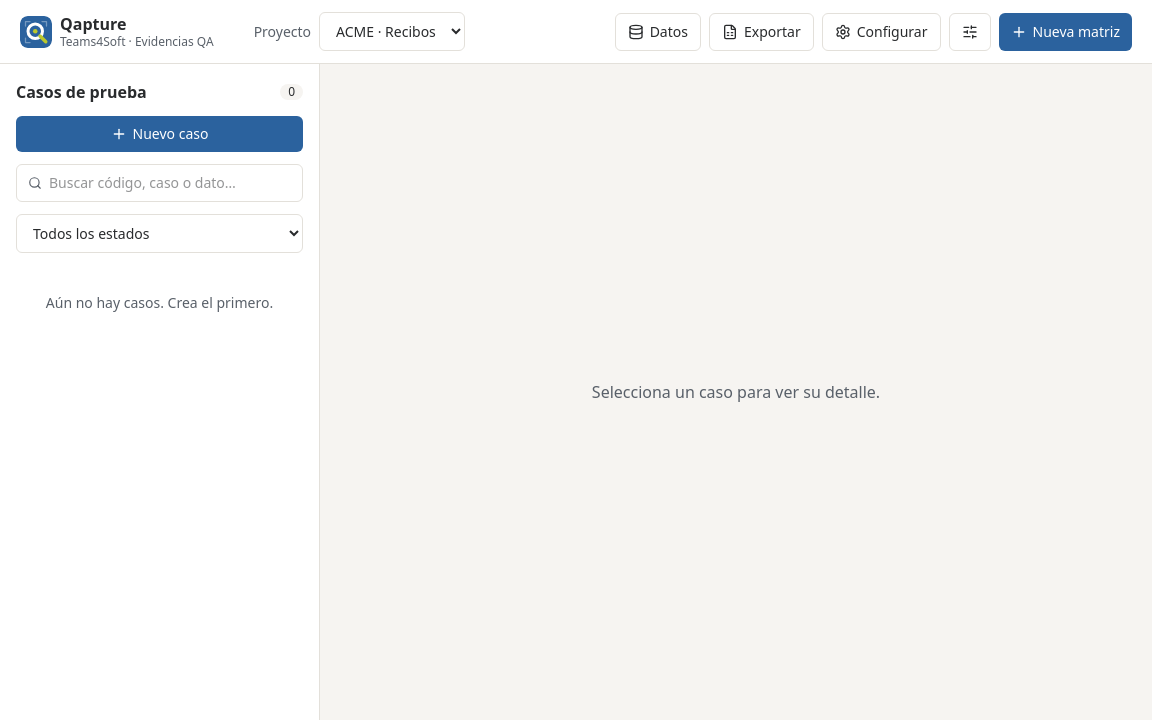
Test: pestaña GitHub de Configurar proyecto › sin predeterminado muestra «Marca un repositorio como predeterminado.» y no guarda
Click the button "Configurar".
click(881, 32)  # box left=822, top=12, right=940, bottom=50
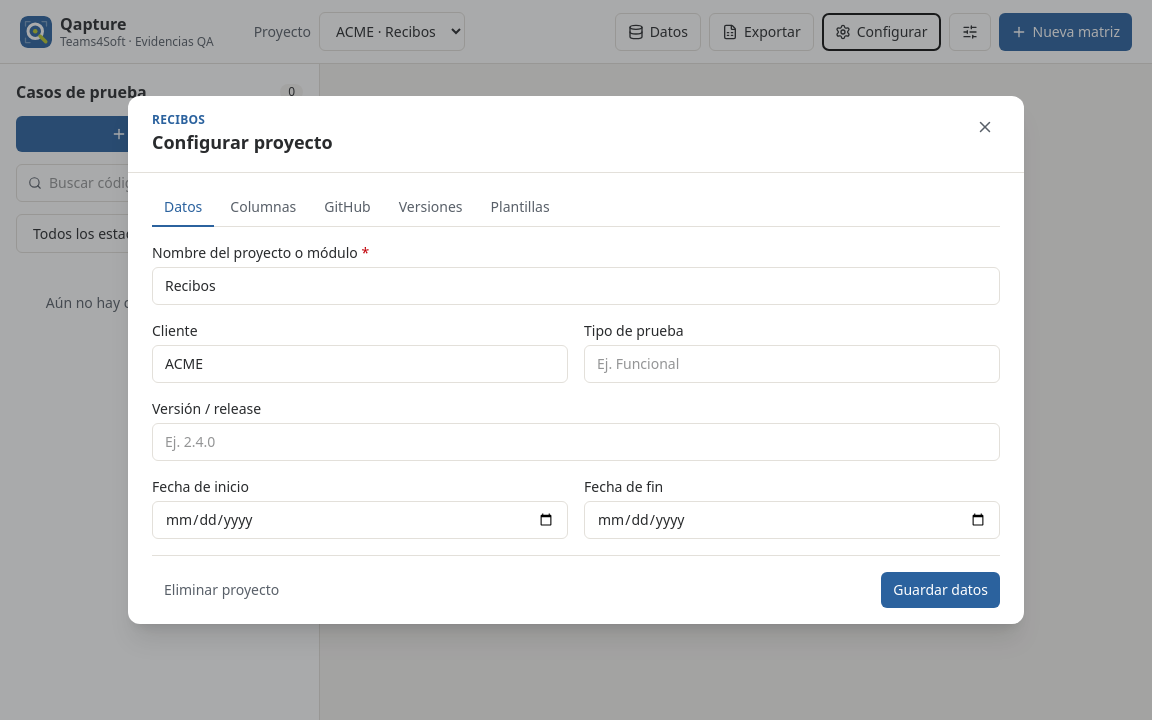
Click the tab "GitHub".
click(347, 208)  # box left=312, top=189, right=383, bottom=227
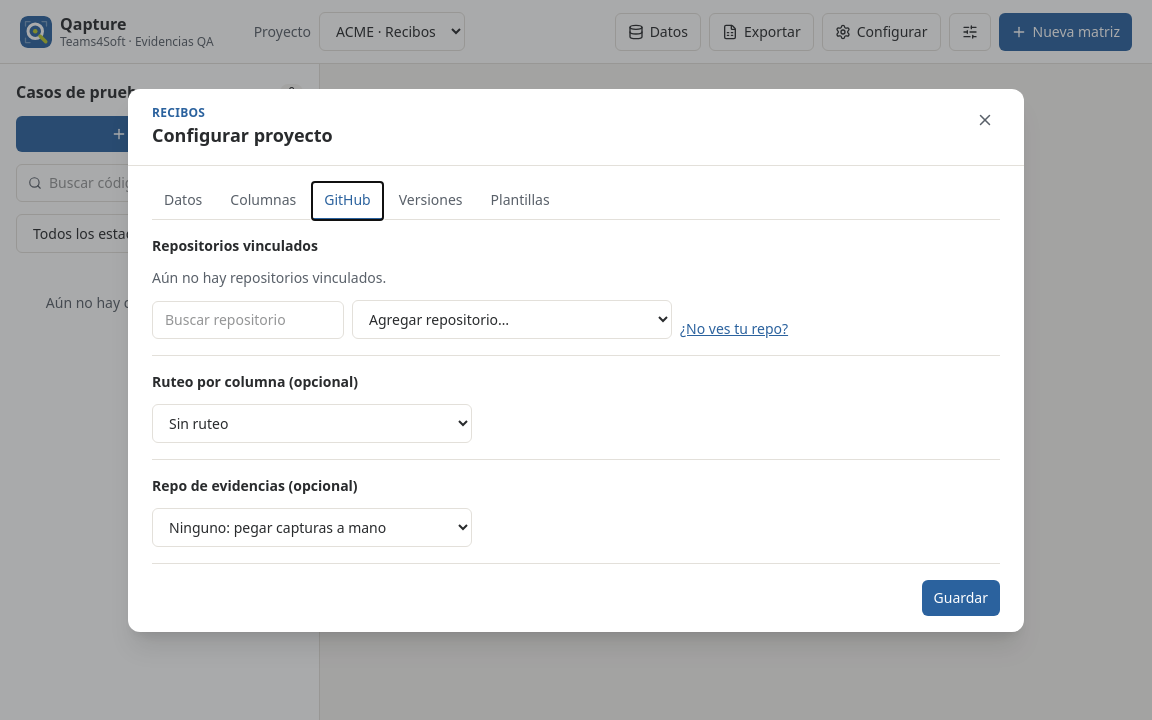
Select "acme/web" in the dropdown named "Agregar repositorio" at [512, 319], box left=352, top=300, right=672, bottom=338
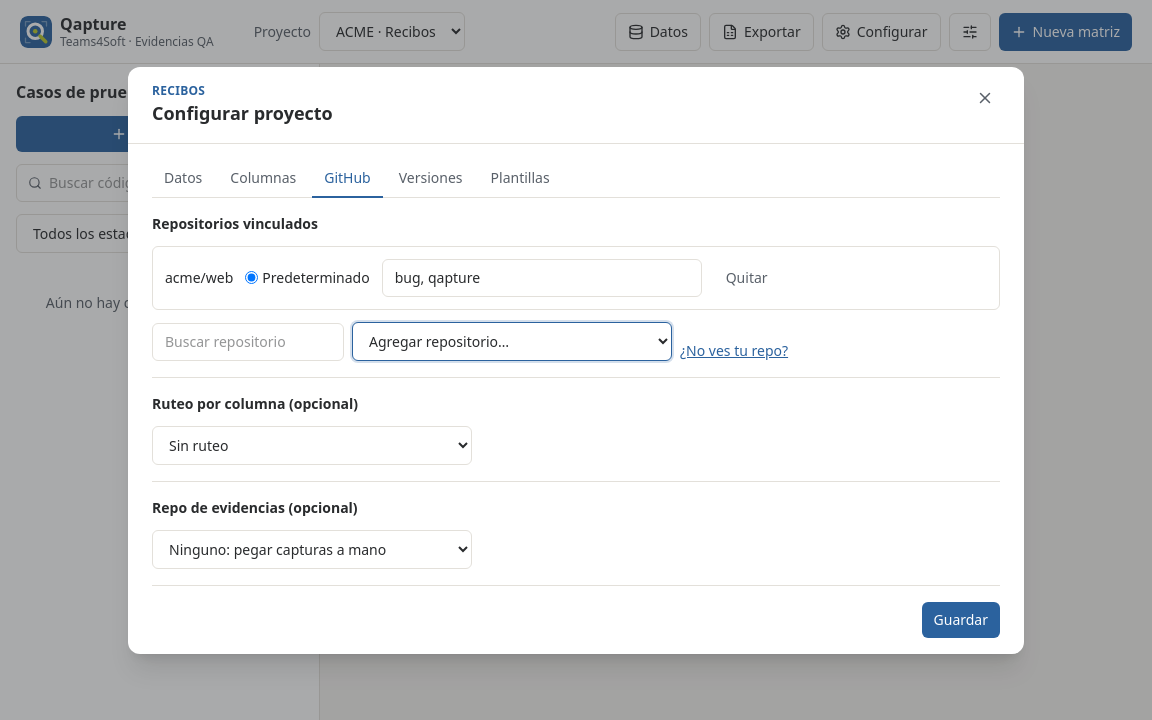
Select "🔒 acme/api" in the dropdown named "Agregar repositorio" at [512, 341], box left=352, top=322, right=672, bottom=360
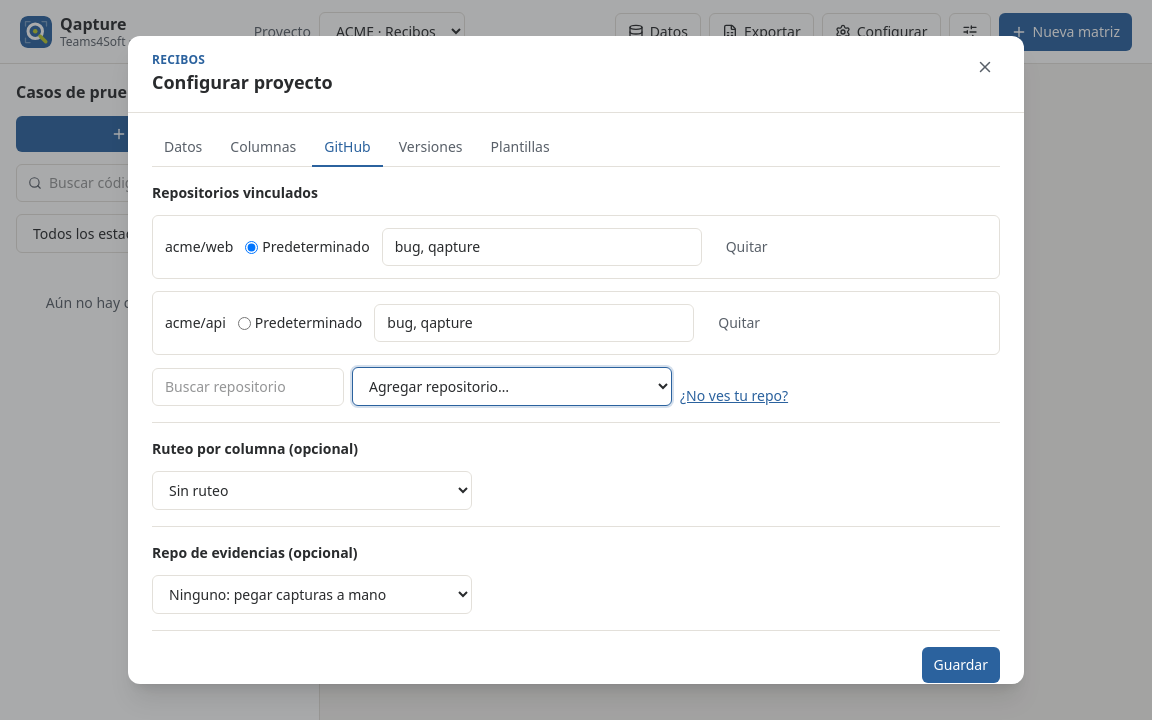
Click the button with aria-label "Quitar acme/web".
click(747, 247)  # box left=714, top=229, right=780, bottom=265
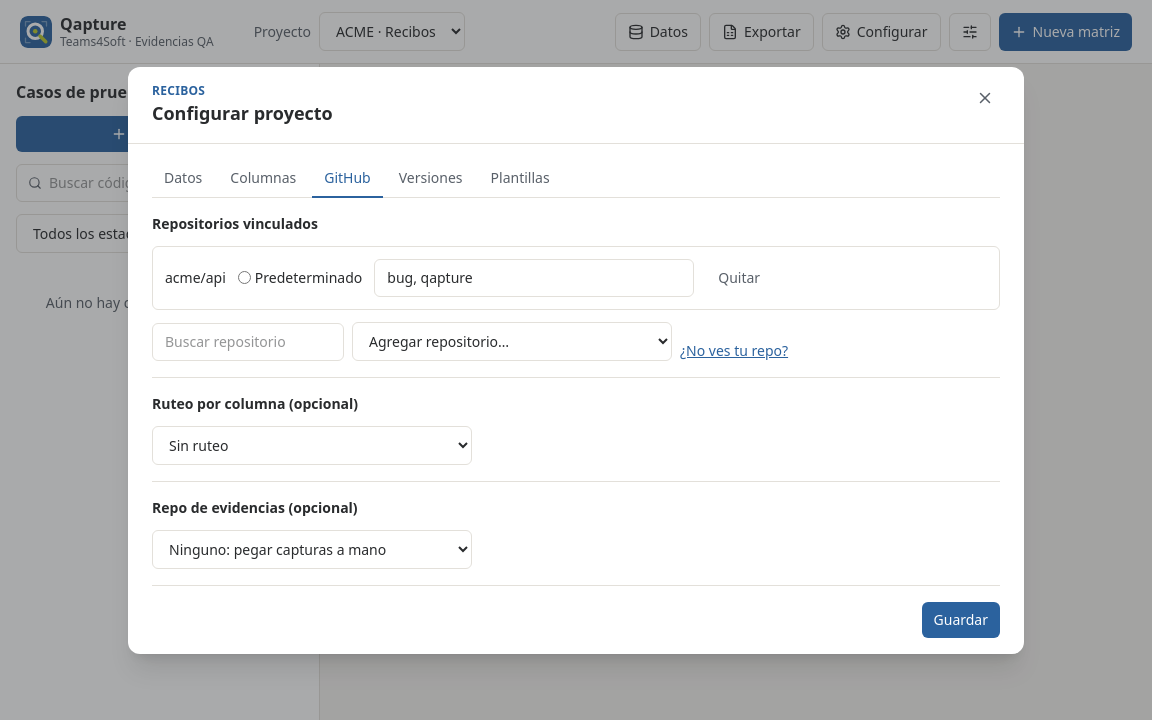
Click the button "Guardar".
click(961, 620)  # box left=922, top=602, right=1000, bottom=638
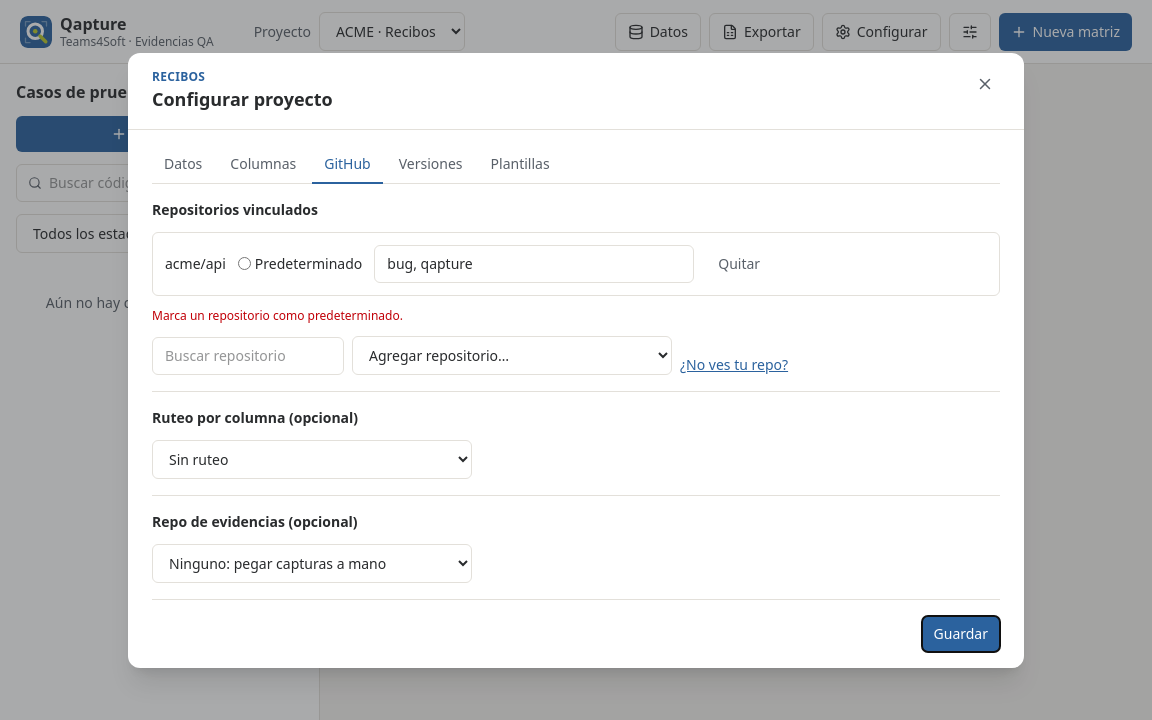
Check: the text "Marca un repositorio como predeterminado." is shown, box left=152, top=306, right=403, bottom=324
